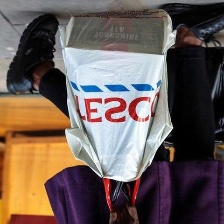plastic_bag: (54, 5, 177, 185)
